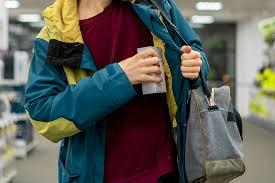shoplifting: (58, 31, 238, 142)
